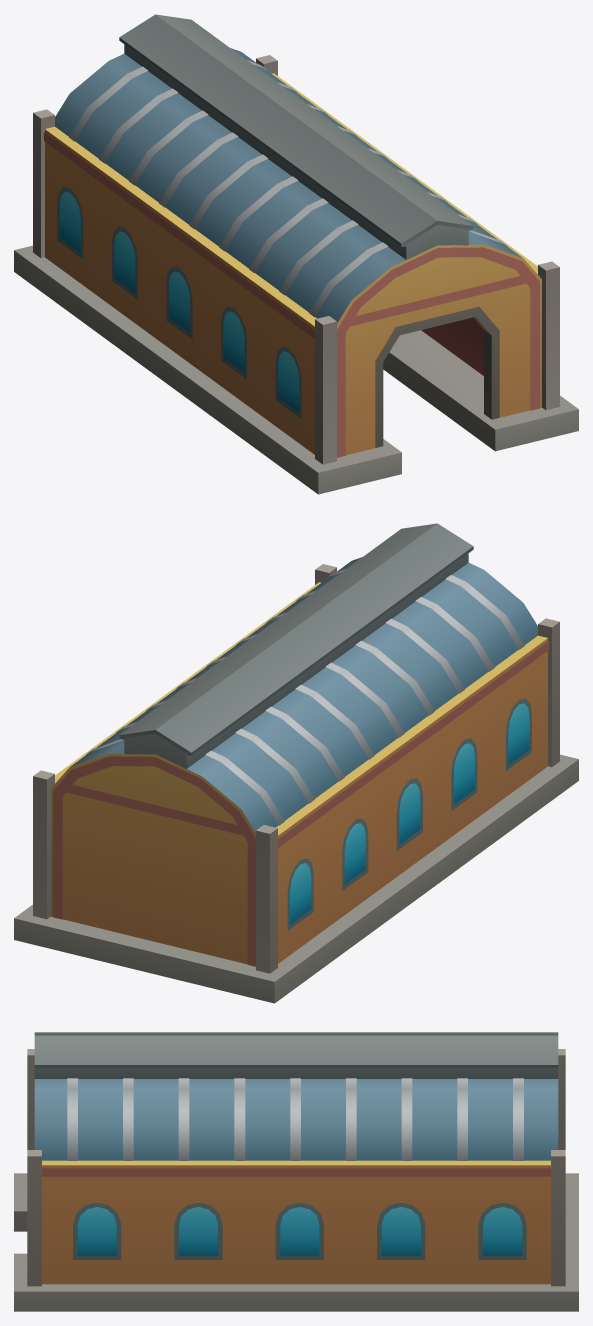
Rendered from Railway_Depot.fbx.
3 views of the same model, one above another, from view 1: azimuth 30°, elevation 25°; view 2: azimuth 150°, elevation 25°; view 3: azimuth 270°, elevation 25° (orthographic). The views are drawn at different scales.
Parts seen in each view (by area): view 1: Railway_Depot; view 2: Railway_Depot; view 3: Railway_Depot.
Part boxes in pixels (x1=…): Railway_Depot: x1=14, y1=14, x2=578, y2=494; Railway_Depot: x1=14, y1=523, x2=578, y2=1003; Railway_Depot: x1=14, y1=1032, x2=578, y2=1311.
Bounding box in the file's own units: 1156 × 991 × 2338.
